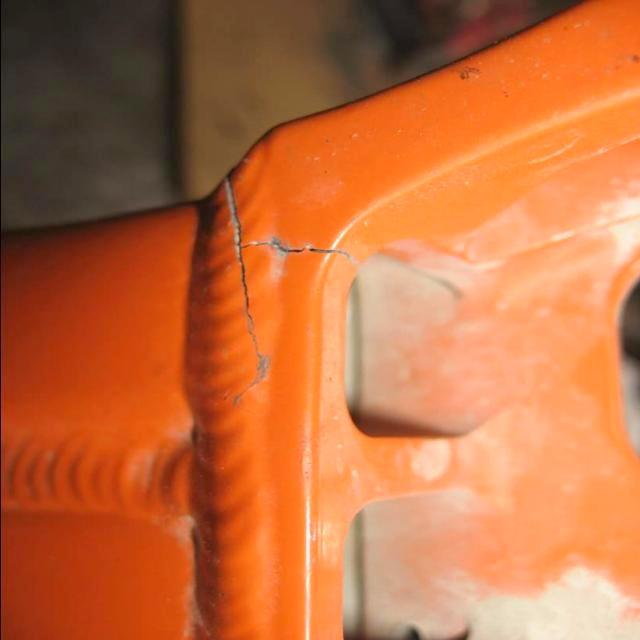defect: (218, 172, 366, 422)
